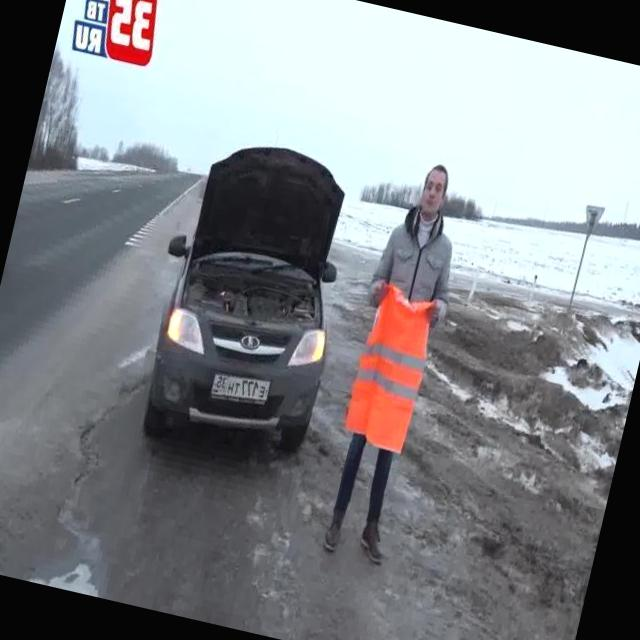boots: (348, 519, 392, 563)
no-gloves: (421, 294, 446, 322)
no-helmet: (414, 162, 456, 222)
vest: (338, 282, 444, 460)
